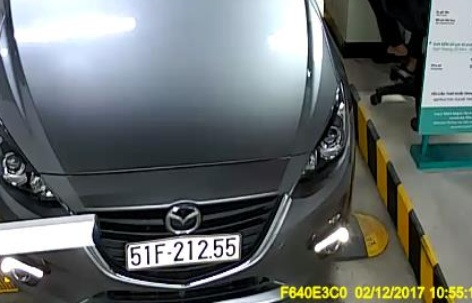plate: (121, 236, 242, 266)
